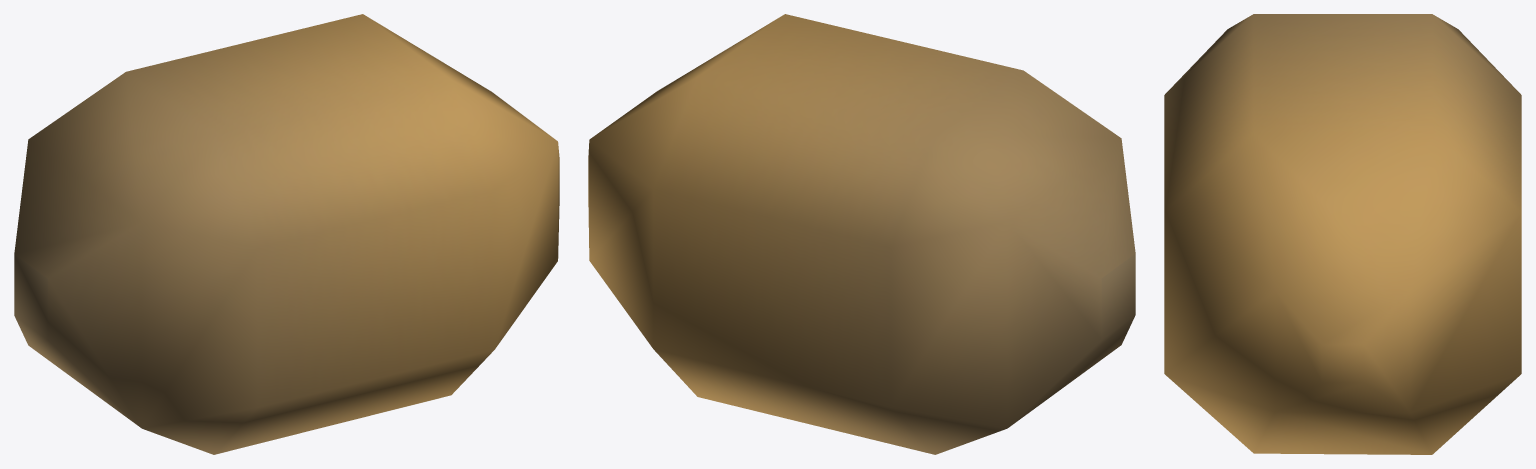
The model's file is potato.fbx.
3 renders of one model, left to right at view 1: azimuth 30°, elevation 25°; view 2: azimuth 150°, elevation 25°; view 3: azimuth 270°, elevation 25°, orthographic.
Parts seen in each view (by area): view 1: polySurface775; view 2: polySurface775; view 3: polySurface775.
Boxes of the visible parts, box(x1,y1,x2,y2) form: polySurface775: box(14, 14, 559, 454); polySurface775: box(588, 14, 1135, 454); polySurface775: box(1164, 14, 1521, 454).
Bounding box in the file's own units: 26.23 × 15.42 × 15.42.
